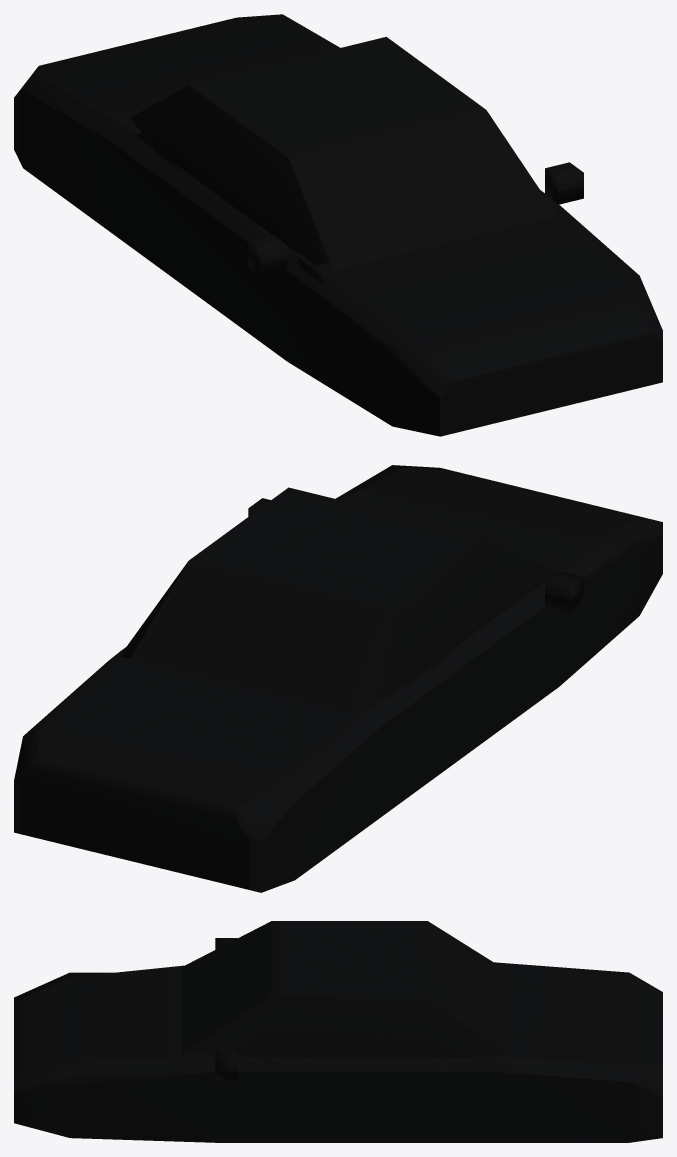
The picture shows the model from 3 angles, top to bottom: view 1: azimuth 30°, elevation 25°; view 2: azimuth 150°, elevation 25°; view 3: azimuth 270°, elevation 25°; orthographic projection. The views are drawn at different scales.
Size of the model in its own units: 2.08 by 1.04 by 4.64.
1 material, 1 textured.
